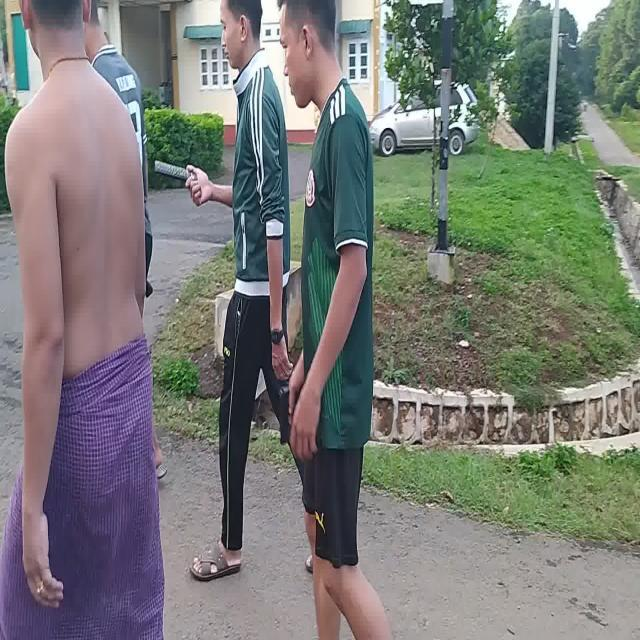gun: (279, 383, 291, 445)
